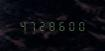eight: (47, 20, 56, 31)
four: (17, 20, 26, 31)
seven: (27, 20, 36, 31)
six: (57, 20, 66, 31)
two: (37, 20, 46, 31)
zero: (67, 20, 76, 31), (77, 20, 86, 31)
